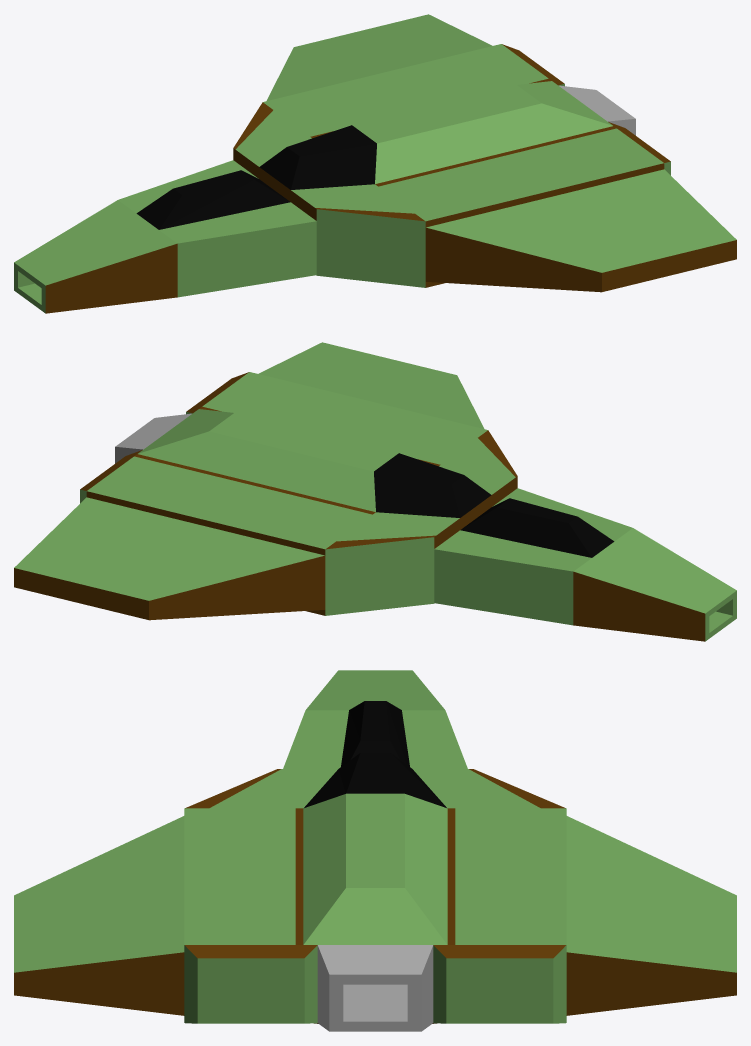
File: B_Spaceship_4_Green.fbx
The picture shows the model from 3 angles, top to bottom: view 1: azimuth 30°, elevation 25°; view 2: azimuth 150°, elevation 25°; view 3: azimuth 270°, elevation 25°; orthographic projection. The views are drawn at different scales.
Parts seen in each view (by area): view 1: pCube1; view 2: pCube1; view 3: pCube1.
Boxes of the visible parts, x1,y1,x2,y2 form: pCube1: (14,14,736,313); pCube1: (14,342,736,641); pCube1: (14,670,736,1031).
Bounding box in the file's own units: 0.0746 × 0.068 × 0.0125.
